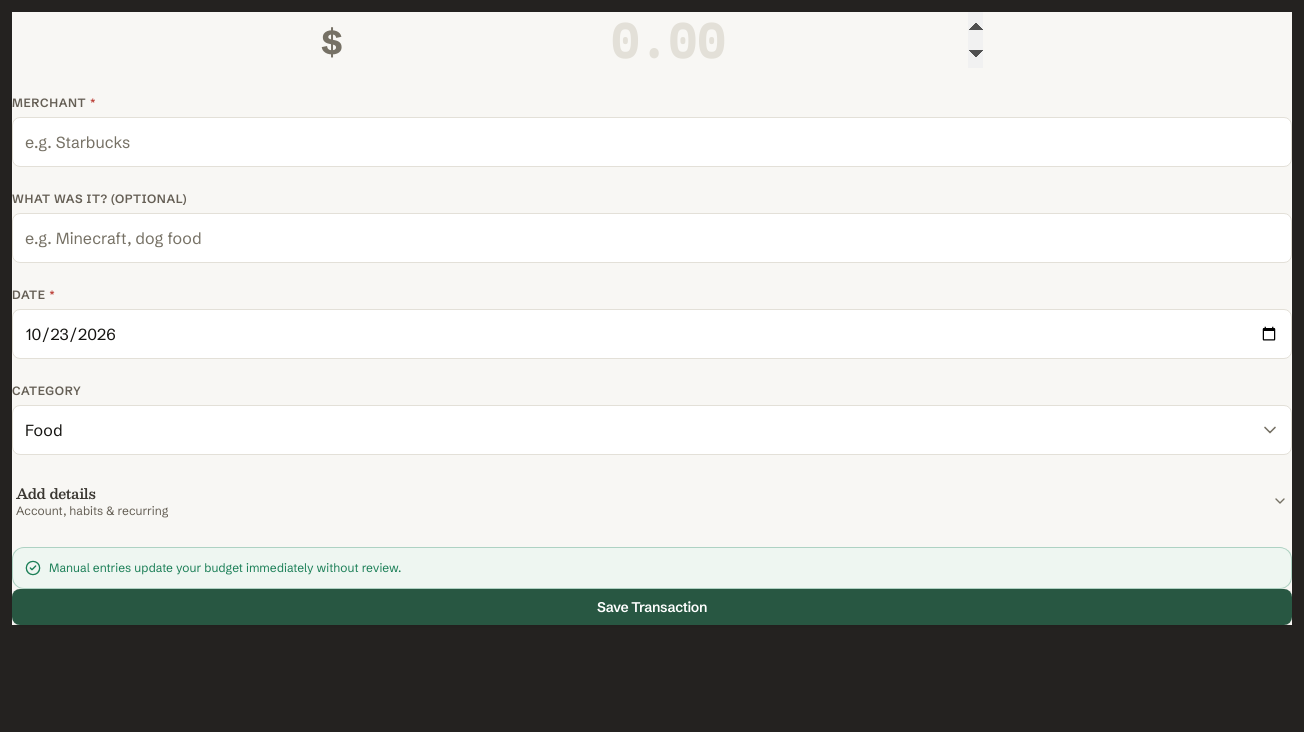
it: CaptureTransactionManual › clears a field error as soon as the user fixes that field
The image size is (1304, 732).
Click the button "Save Transaction" at (652, 607), box [12,589,1292,625]
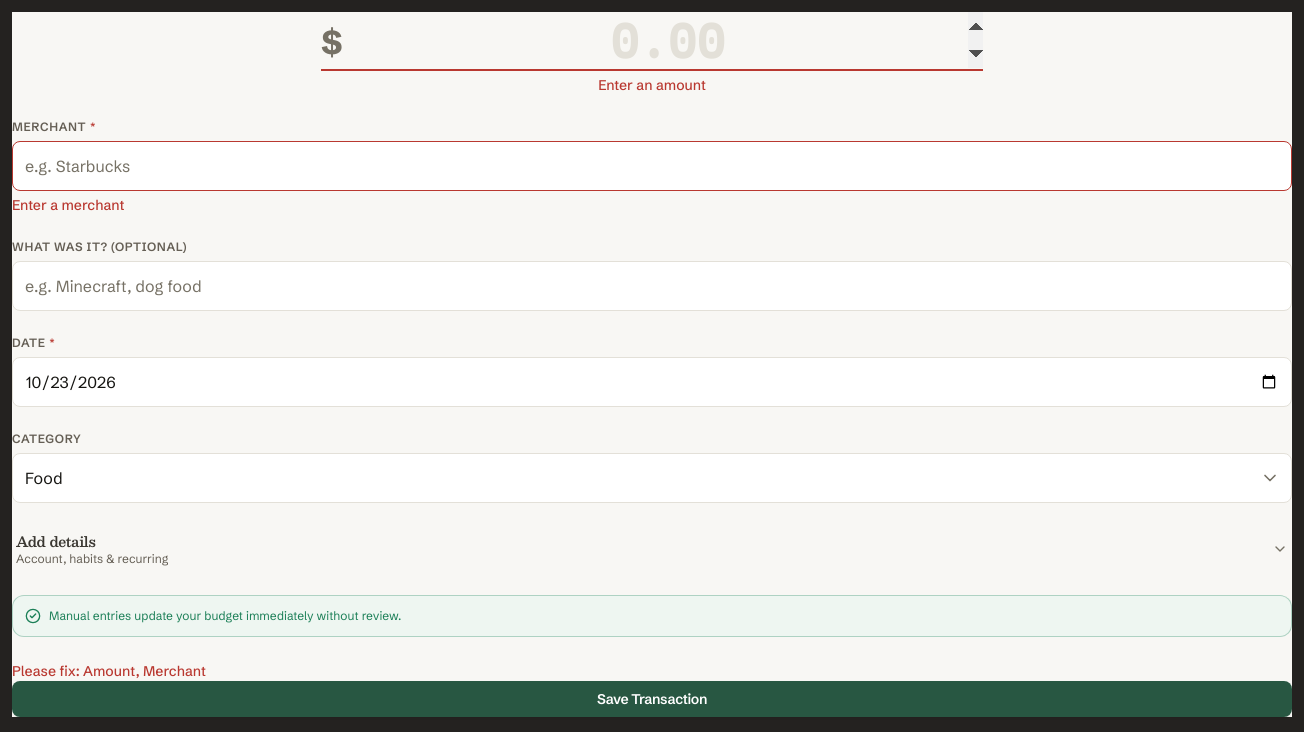
Result: the text "Enter an amount" is shown at [598,76,706,94]
Result: the text "Enter a merchant" is shown at [12,196,124,214]
Type "Pizza Place" into the field with placeholder "e.g. Starbucks" at (652, 166), box [12,141,1292,191]
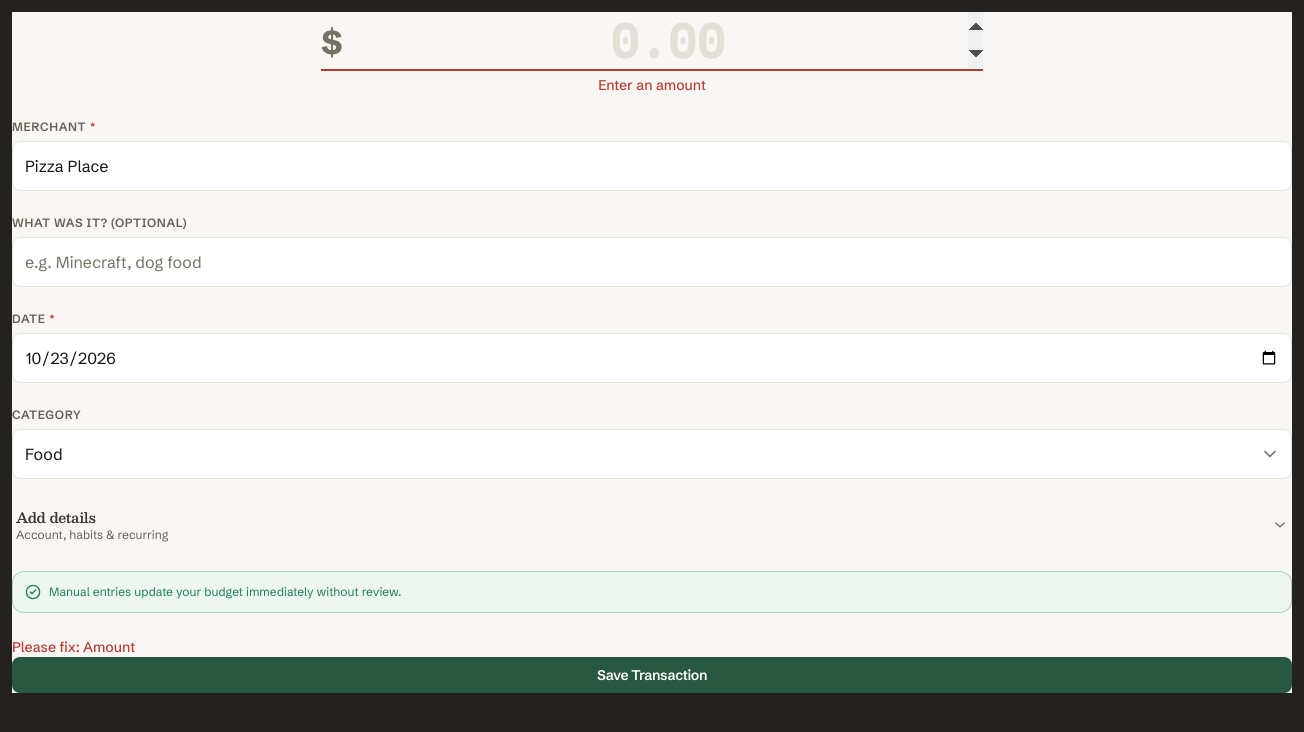
Result: the text "Enter an amount" is shown at [598,76,706,94]
Result: the text "Enter a merchant" is gone
Result: the message reads "Please fix: Amount" at [12,638,135,656]
Note: Fixing the amount clears the last error AND the summary alert.
Type "25.00" into the number field with placeholder "0.00" at (652, 42), box [321,12,983,71]
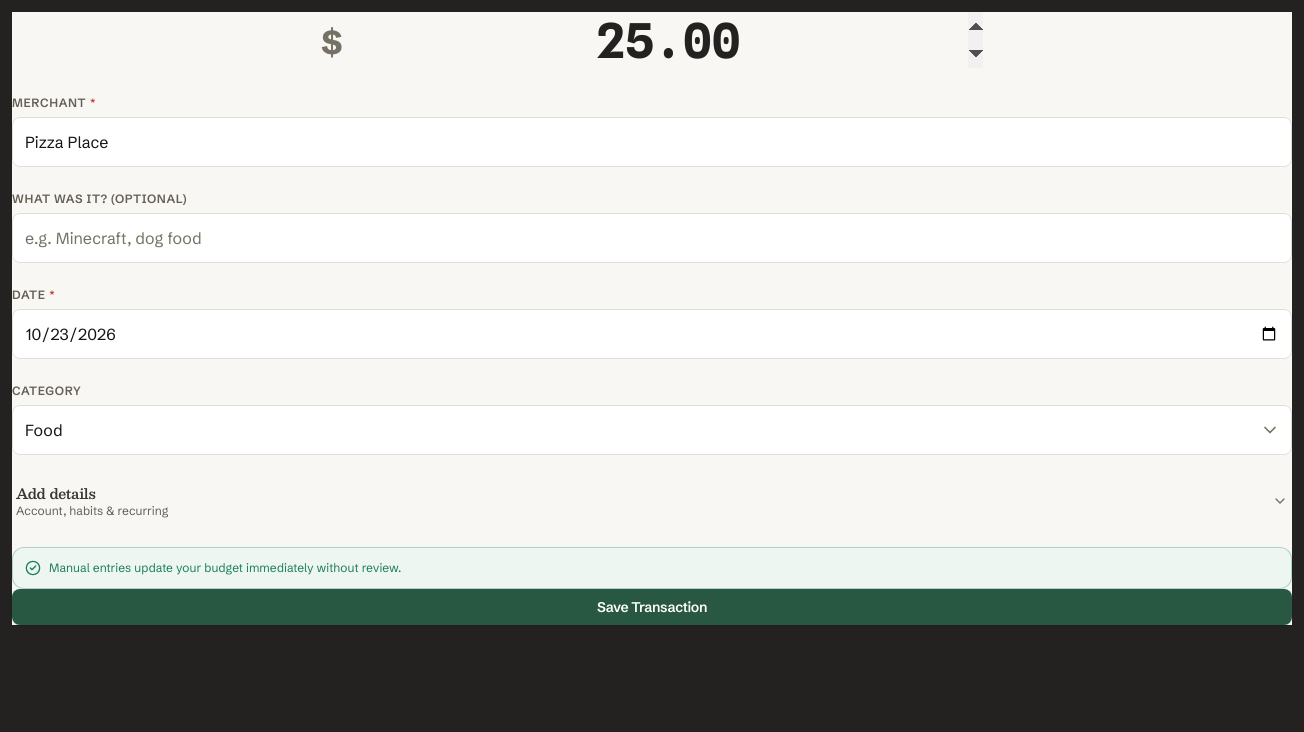
Result: the text "Enter an amount" is gone
Result: the message "Please fix: Amount" is gone
